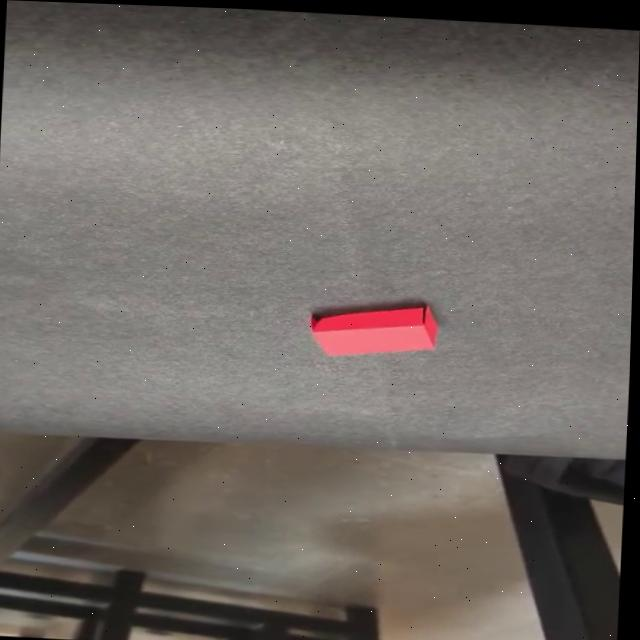red block: (307, 297, 440, 362)
